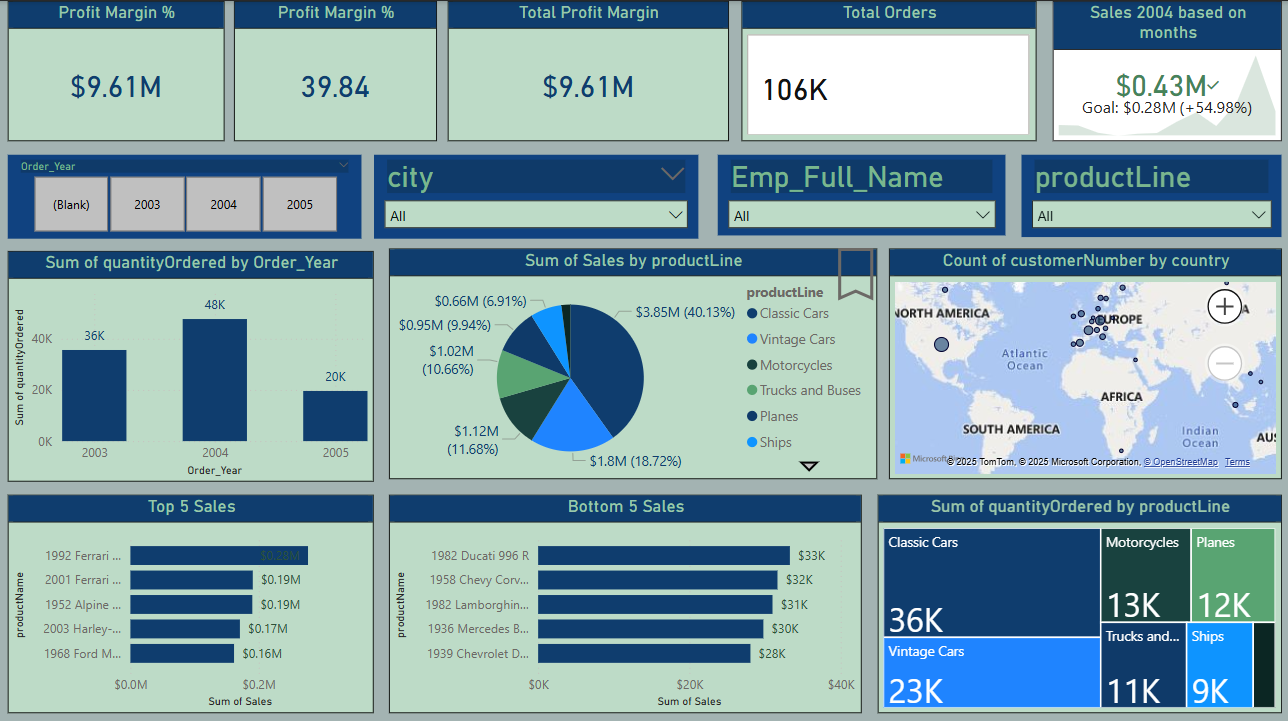

The dashboard page shown, as its layout file describes it:
{"tool":"powerbi","page":{"name":"Page 1","canvas":[1280,720],"ordinal":0},"visuals":[{"type":"card","title":"Total Profit Margin","fields":{"Values":["Order Detail.Total_Sales"]},"box":[446,0,275.8,137.2],"z":0},{"type":"barChart","title":"Top 5 Sales","fields":{"Category":["Products.productName"],"Y":["Order Detail.Sales"]},"box":[13.7,484.4,359.5,214.1],"z":1000},{"type":"pieChart","fields":{"Category":["Products.productLine"],"Y":["Order Detail.Sales"]},"box":[388.3,242.9,478.9,226.4],"z":2000},{"type":"slicer","fields":{"Values":["Orders.Order_Year"]},"box":[13.7,150.9,347.2,82.3],"z":3000},{"type":"cardVisual","title":"Total Orders","fields":{"Data":["Order Detail.quantityOrdered"]},"box":[733.2,0,289.4,137.7],"z":4000},{"type":"multiRowCard","fields":{"Values":["Offices.officeCode","Employees.employeeNumber","Customers.customerNumber"]},"box":[878.2,503.6,218.2,185.2],"z":5000},{"type":"kpi","title":"Sales 2004 based on months","fields":{"TrendLine":["Orders.Month Name"],"Indicator":["Orders.Sales_2004"],"Goal":["Orders.Sales_2003"]},"box":[1038.8,0,225,137.2],"z":6000},{"type":"map","fields":{"Size":["Customers.customerNumber"],"Category":["Customers.country"]},"box":[878.2,242.9,385.6,226.4],"z":7000},{"type":"treemap","fields":{"Group":["ProductLines.productLine"],"Values":["Order Detail.quantityOrdered"]},"box":[867.2,484.4,396.6,214.1],"z":8000},{"type":"clusteredColumnChart","fields":{"Y":["Order Detail.quantityOrdered"],"Category":["Orders.Order_Year"]},"box":[13.7,245.6,359.5,226.4],"z":9000},{"type":"card","title":"Profit Margin %","fields":{"Values":["classic_models_dataset.Profit Margin %"]},"box":[236,0,199,137.2],"z":10000},{"type":"card","title":"Profit Margin %","fields":{"Values":["Order Detail.Total_Sales"]},"box":[13.7,0,212.7,137.2],"z":11000},{"type":"slicer","fields":{"Values":["Offices.city"]},"box":[373.2,150.9,318.4,82.3],"z":12000},{"type":"slicer","fields":{"Values":["Employees.Emp_Full_Name"]},"box":[710.8,150.9,282.7,79.6],"z":13000},{"type":"slicer","fields":{"Values":["ProductLines.productLine"]},"box":[1008.6,150.9,255.2,81],"z":14000},{"type":"barChart","title":"Bottom 5 Sales","fields":{"Category":["Products.productName"],"Y":["Order Detail.Sales"]},"box":[388.3,484.4,463.8,214.1],"z":15000},{"type":"actionButton","box":[812.5,243.5,65.4,69.6],"z":16000}]}

Visuals, with their boxes in screenshot pixels (x1, y1, x2, y2), scaled from the page's 1280x720 canvas onto the 1288x721 screenshot:
"Total Profit Margin" card: left=449, top=0, right=726, bottom=137
"Top 5 Sales" barChart: left=14, top=485, right=376, bottom=699
pieChart - Products.productLine x Order Detail.Sales: left=391, top=243, right=873, bottom=470
slicer - Orders.Order_Year: left=14, top=151, right=363, bottom=234
"Total Orders" cardVisual: left=738, top=0, right=1029, bottom=138
multiRowCard - Offices.officeCode x Employees.employeeNumber: left=884, top=504, right=1103, bottom=690
"Sales 2004 based on months" kpi: left=1045, top=0, right=1272, bottom=137
map - Customers.customerNumber x Customers.country: left=884, top=243, right=1272, bottom=470
treemap - ProductLines.productLine x Order Detail.quantityOrdered: left=873, top=485, right=1272, bottom=699
clusteredColumnChart - Order Detail.quantityOrdered x Orders.Order_Year: left=14, top=246, right=376, bottom=473
"Profit Margin %" card: left=237, top=0, right=438, bottom=137
"Profit Margin %" card: left=14, top=0, right=228, bottom=137
slicer - Offices.city: left=376, top=151, right=696, bottom=234
slicer - Employees.Emp_Full_Name: left=715, top=151, right=1000, bottom=231
slicer - ProductLines.productLine: left=1015, top=151, right=1272, bottom=232
"Bottom 5 Sales" barChart: left=391, top=485, right=857, bottom=699
actionButton: left=818, top=244, right=883, bottom=314
